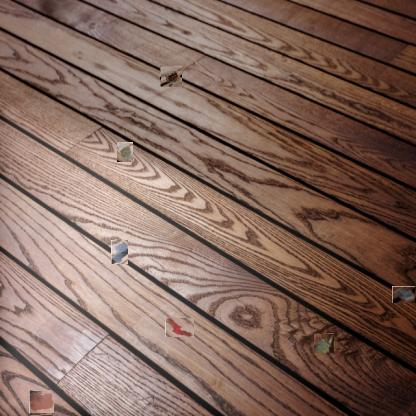dirty: (165, 317, 194, 337), (160, 66, 182, 88), (314, 333, 334, 353), (392, 286, 415, 303), (117, 142, 133, 162)
liquid: (30, 391, 53, 414), (111, 240, 128, 264)
